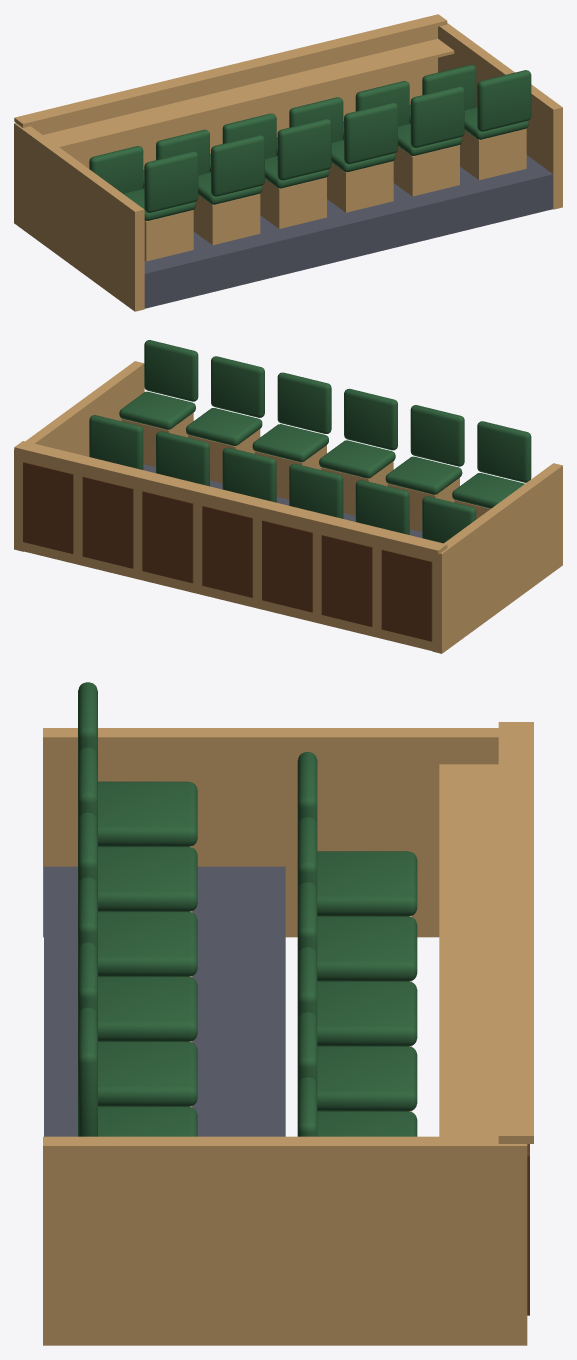
The model's file is justice.court.jury_box.glb.
The picture shows the model from 3 angles, top to bottom: view 1: azimuth 30°, elevation 25°; view 2: azimuth 150°, elevation 25°; view 3: azimuth 270°, elevation 25°; orthographic projection. The views are drawn at different scales.
Parts seen in each view (by area): view 1: main__glulam, seats__fabric_green, main__carpet, seats__glulam; view 2: seats__fabric_green, main__glulam, main__hardwood, seats__glulam, main__carpet; view 3: main__glulam, seats__fabric_green, main__carpet.
Boxes of the visible parts, x1,y1,x2,y2 form: main__glulam: [14, 14, 562, 311]; seats__fabric_green: [89, 64, 531, 220]; main__carpet: [144, 155, 553, 308]; seats__glulam: [144, 129, 526, 261]; seats__fabric_green: [89, 340, 531, 543]; main__glulam: [14, 361, 562, 653]; main__hardwood: [23, 462, 432, 641]; seats__glulam: [121, 413, 490, 531]; main__carpet: [143, 464, 422, 537]; main__glulam: [43, 722, 533, 1345]; seats__fabric_green: [78, 682, 417, 1136]; main__carpet: [44, 866, 285, 1136].
Bounding box in the file's own units: 4.5 × 1.35 × 2.23.
